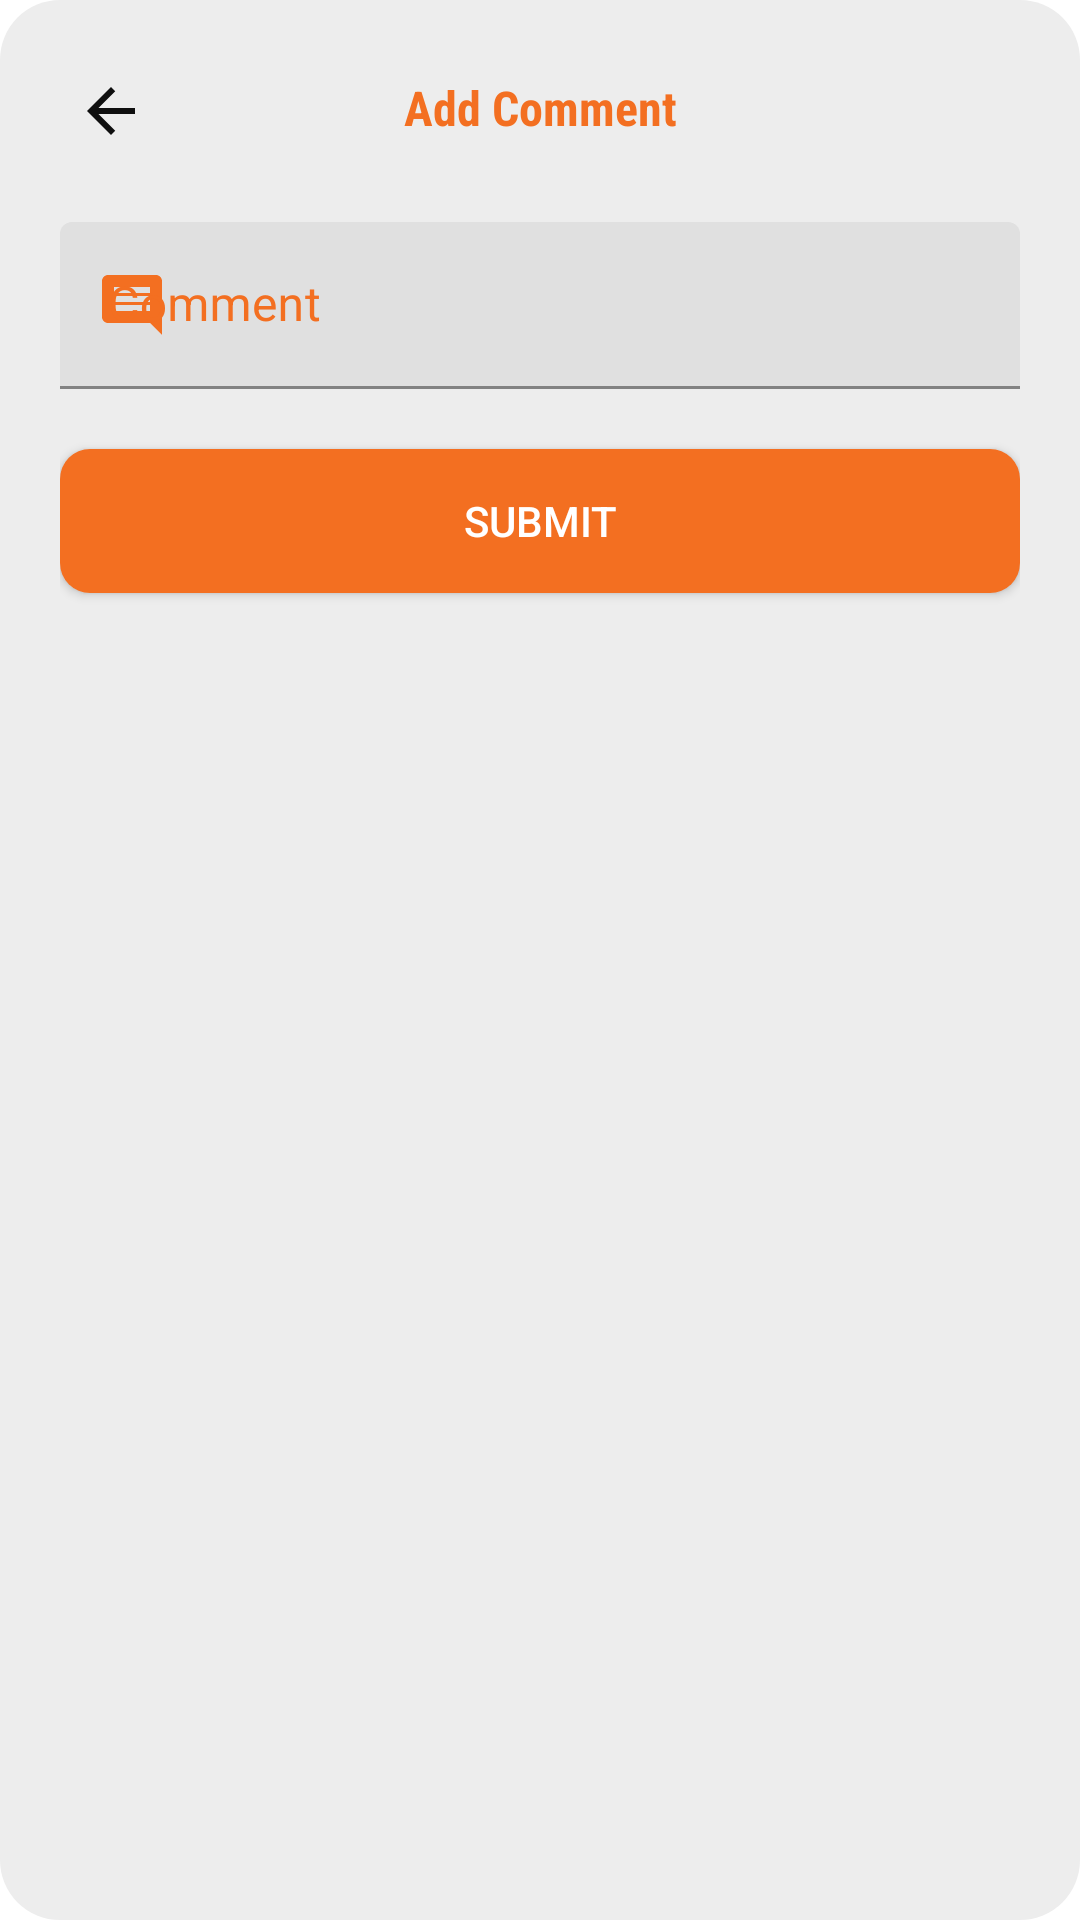

Screen size 1080x1920. Icon name, then its box in pixels as (x1, y1, x2, y2):
back: (87, 87, 135, 135)
